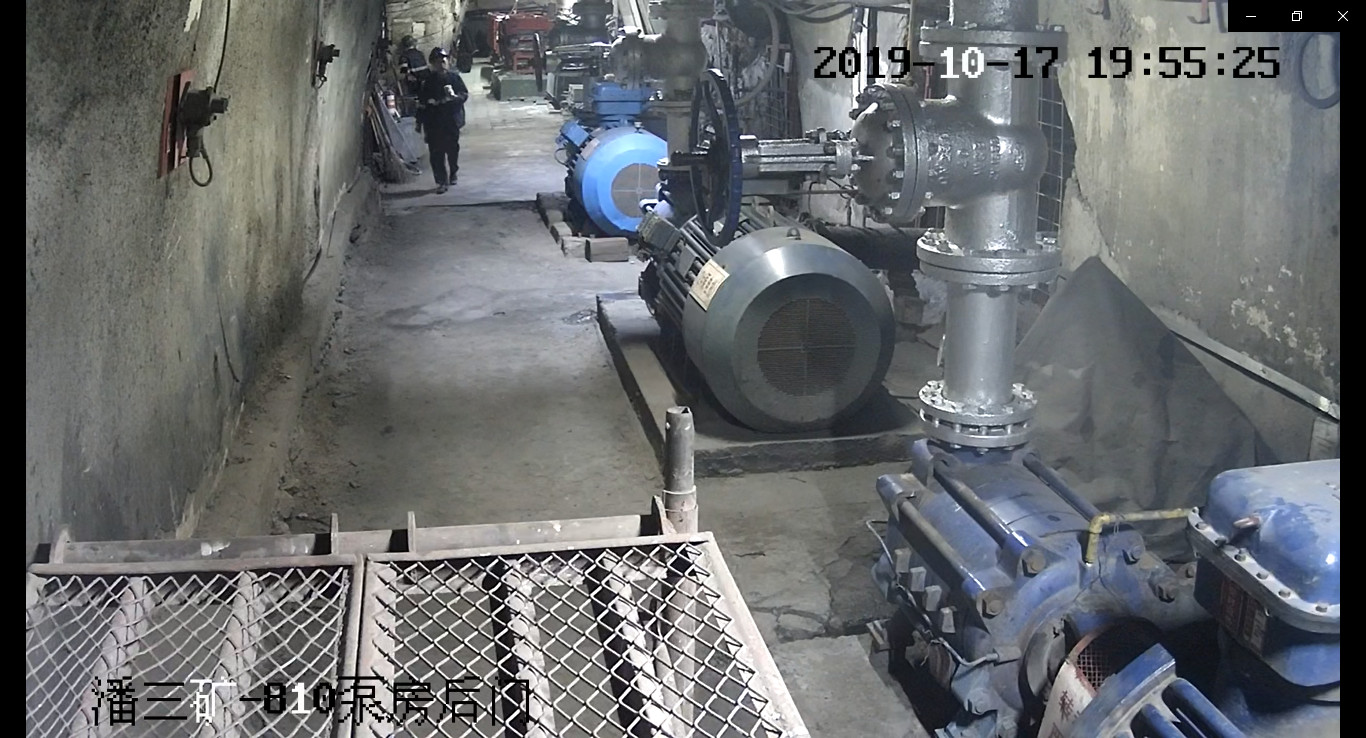helmet: (428, 46, 449, 63)
